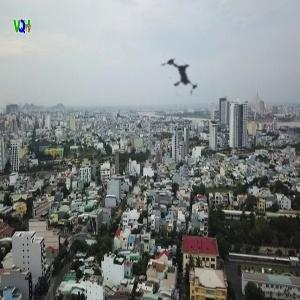drone: (148, 42, 220, 114)
